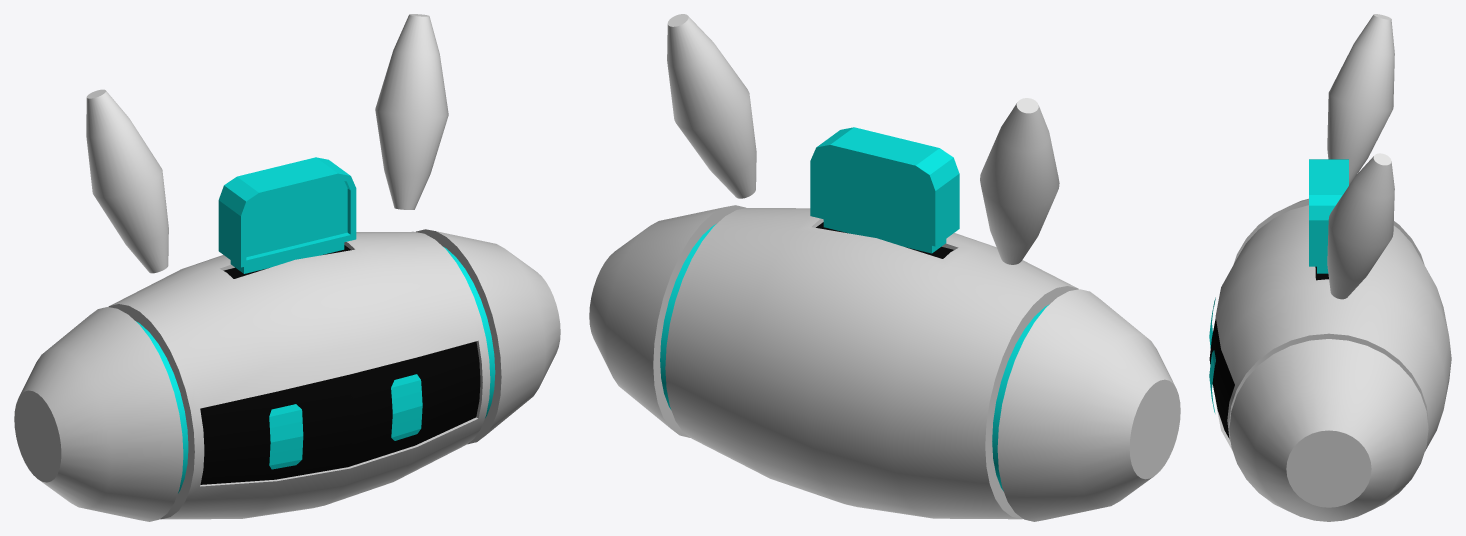
File: Robo.fbx
The picture shows the model from 3 angles, left to right: view 1: azimuth 30°, elevation 25°; view 2: azimuth 150°, elevation 25°; view 3: azimuth 270°, elevation 25°; orthographic projection. The views are drawn at different scales.
Visible parts, largest first — view 1: Robo, Antennae, Socket, Plane; view 2: Robo, Antennae, Socket; view 3: Robo, Antennae, Socket, Plane.
Boxes of the visible parts, bbox=[...] form: Robo: bbox=[14, 229, 560, 521]; Antennae: bbox=[86, 14, 448, 273]; Socket: bbox=[218, 157, 356, 273]; Plane: bbox=[269, 374, 422, 469]; Robo: bbox=[589, 205, 1180, 521]; Antennae: bbox=[667, 14, 1059, 264]; Socket: bbox=[810, 127, 959, 253]; Robo: bbox=[1209, 198, 1451, 521]; Antennae: bbox=[1327, 14, 1394, 299]; Socket: bbox=[1309, 159, 1348, 273]; Plane: bbox=[1209, 297, 1215, 413].
Bounding box in the file's own units: 425 × 346 × 198.
